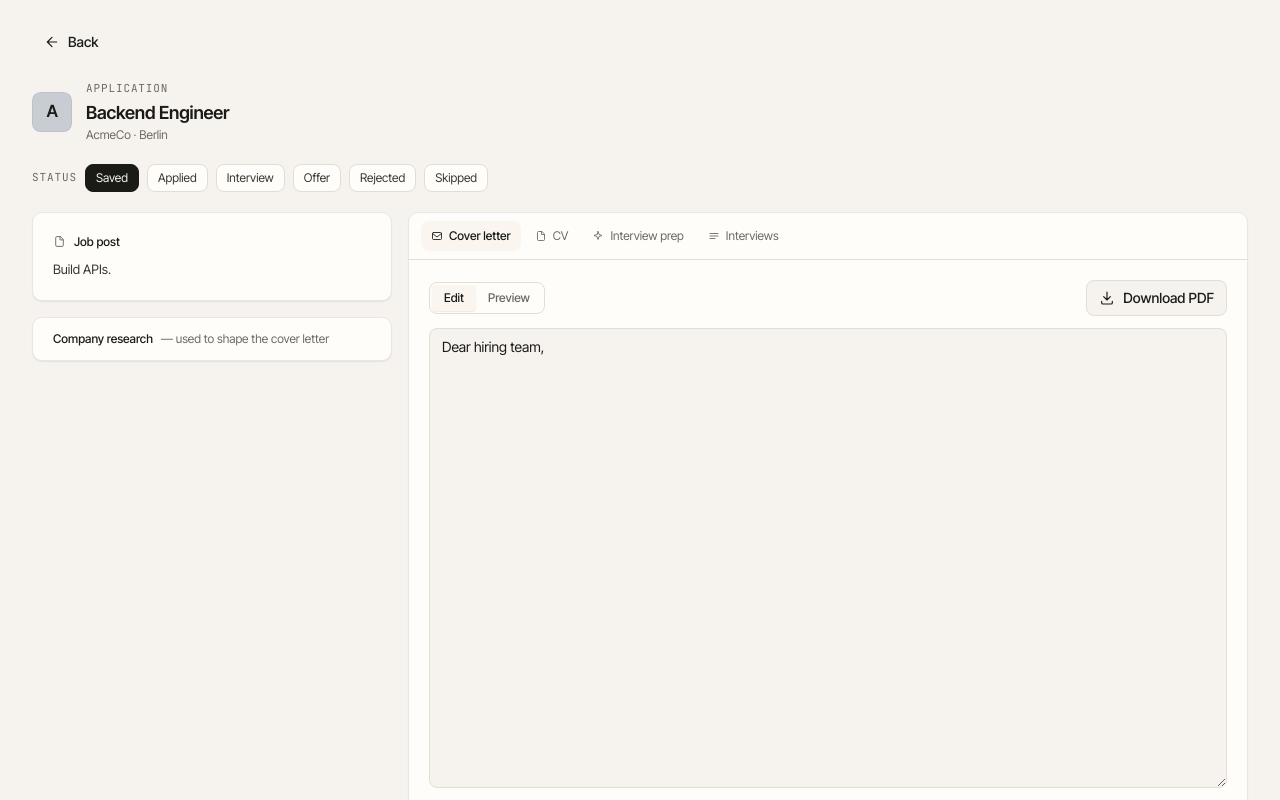
MaterialsScreen (detail mode) › shows a toast after saving the cover letter (PR D feedback gap)
Type " — edited" into the text box named "edit".
click(828, 558); type(" — edited")  # box [429,328,1227,788]
(page scrolled)
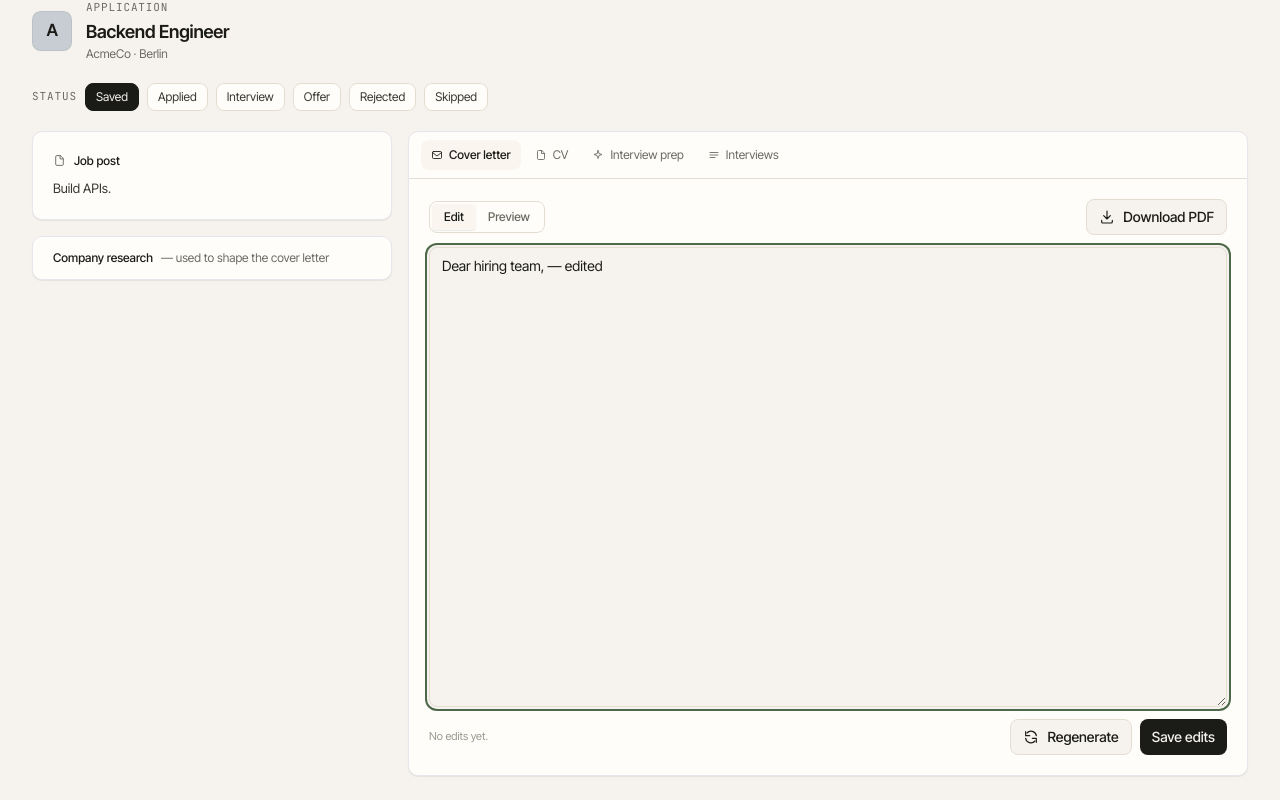
Click the button "Save edits".
click(1183, 736)  # box [1140,718,1227,754]
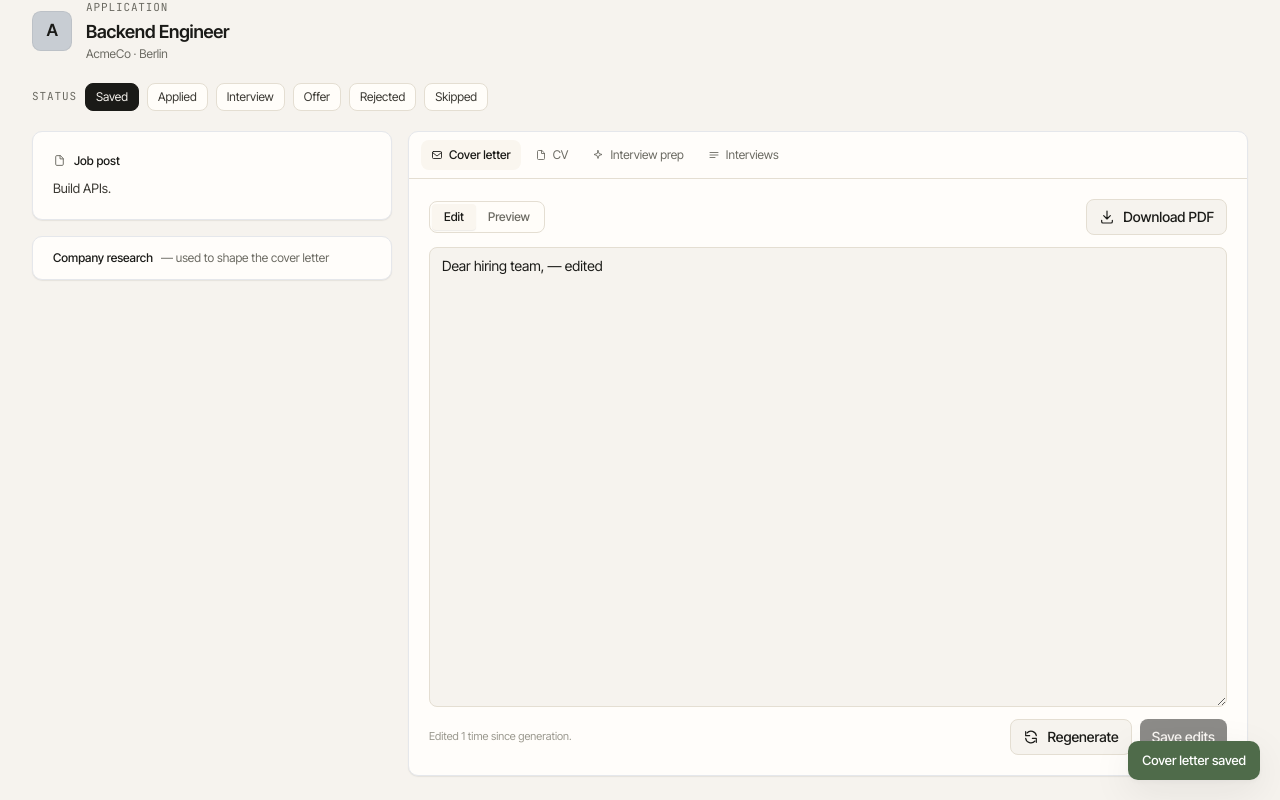
expect the message reads "Cover letter saved": met, box [1142,752,1246,768]
